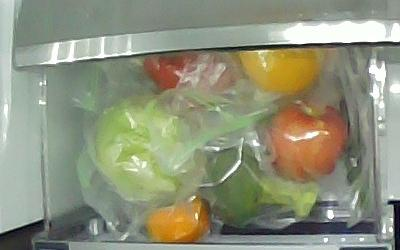apple_vinyl: (265, 101, 346, 184)
broccoli_vinyl: (207, 144, 320, 228)
cucumber_vinyl: (337, 74, 369, 216)
grapefruit_vinyl: (237, 47, 327, 97)
lettuce_vinyl: (93, 97, 202, 202)
paprika_vinyl: (143, 51, 231, 93)
persimmon_vinyl: (146, 195, 210, 244)
